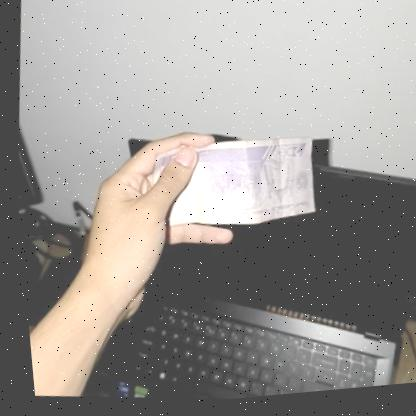ten-back-vef: (183, 130, 320, 239)
